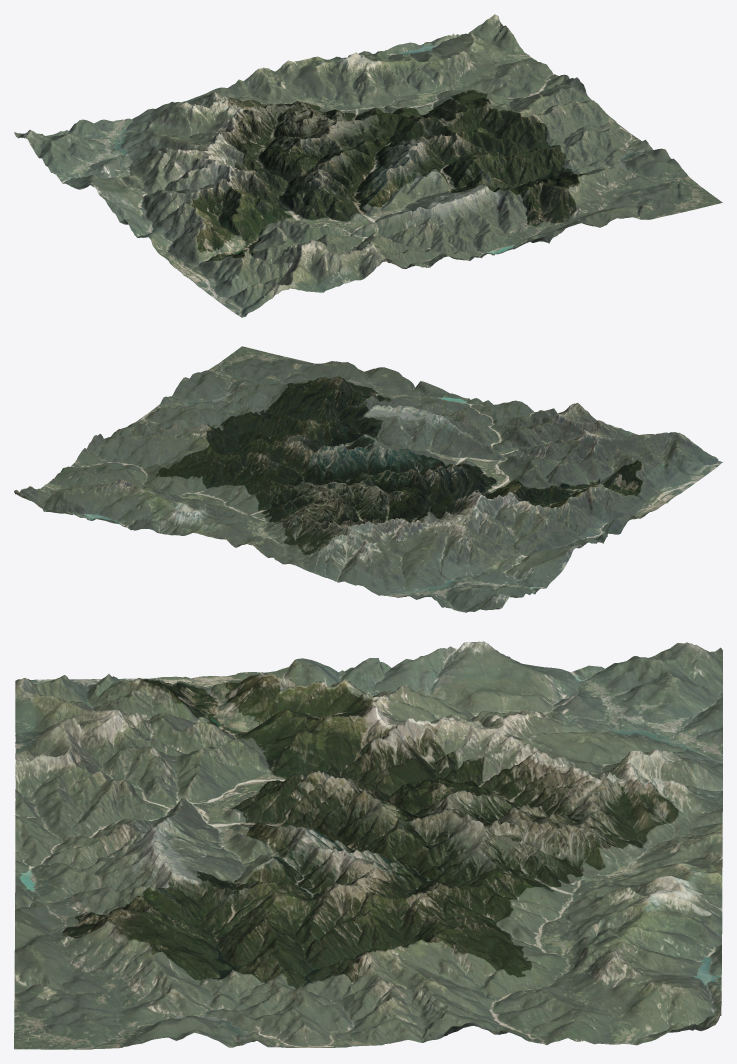
The model's file is terrain_optimized3.glb.
The picture shows the model from 3 angles, top to bottom: view 1: azimuth 30°, elevation 25°; view 2: azimuth 150°, elevation 25°; view 3: azimuth 270°, elevation 25°; orthographic projection. The views are drawn at different scales.
Parts seen in each view (by area): view 1: TerrainNode; view 2: TerrainNode; view 3: TerrainNode.
Boxes of the visible parts, x1,y1,x2,y2 form: TerrainNode: (14,14,722,317); TerrainNode: (14,346,722,612); TerrainNode: (14,641,722,1049).
Bounding box in the file's own units: 5.49 × 0.3681 × 4.46.
1 material, 1 textured.
